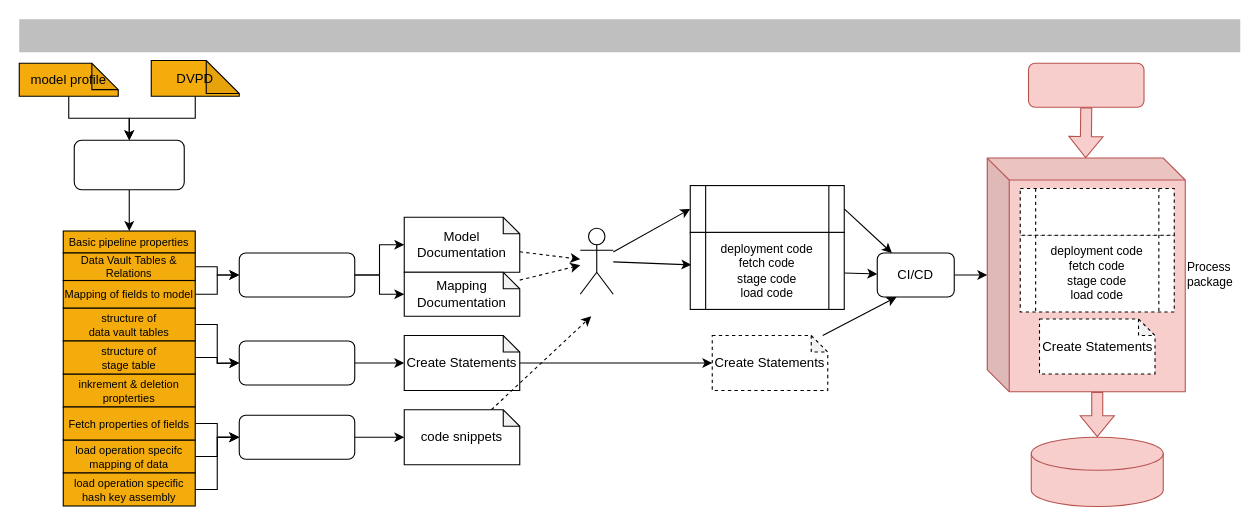
This 1260x526 diagram has some shape labels left out. The shapes that lost their labels are listed below. From the top down, each one's centre as x and y in pixels, then its label:
At point 629,35: "Example A: DDL and Documentation Generation only".
At point 1085,84: "Source".
At point 128,164: "DVPD Compiler".
At point 766,208: "load famework libaries".
At point 1096,211: "famework libraries".
At point 296,274: "Documentation Generator".
At point 596,260: "DWH Developer".
At point 296,362: "DDL Generator".
At point 296,436: "Code snippet Generator".
At point 1096,471: "Vault".
